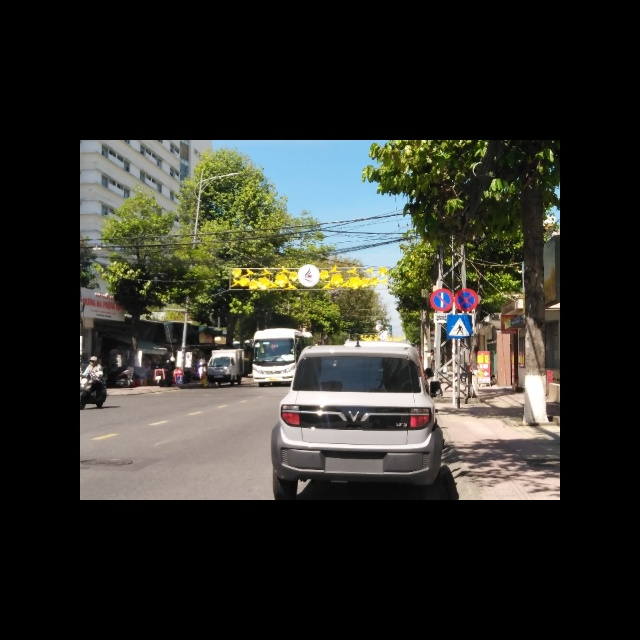Cấm dừng xe và đỗ xe: (454, 288, 479, 312)
Cấm đỗ xe ngày lẻ: (429, 288, 454, 312)
Đường dành cho người đi bộ: (447, 314, 473, 340)
